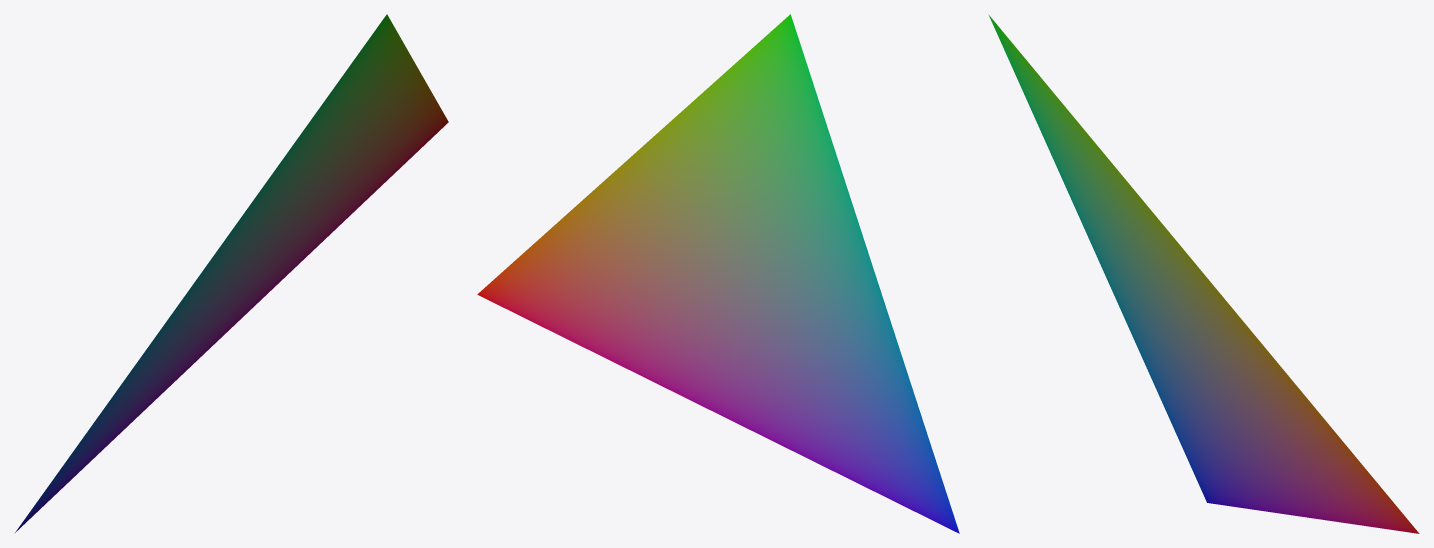
File: face_cleaning_conquest_108.obj
The picture shows the model from 3 angles, left to right: view 1: azimuth 30°, elevation 25°; view 2: azimuth 150°, elevation 25°; view 3: azimuth 270°, elevation 25°; orthographic projection. The views are drawn at different scales.
Bounding box in the file's own units: 1.18 × 1.12 × 0.6452.
